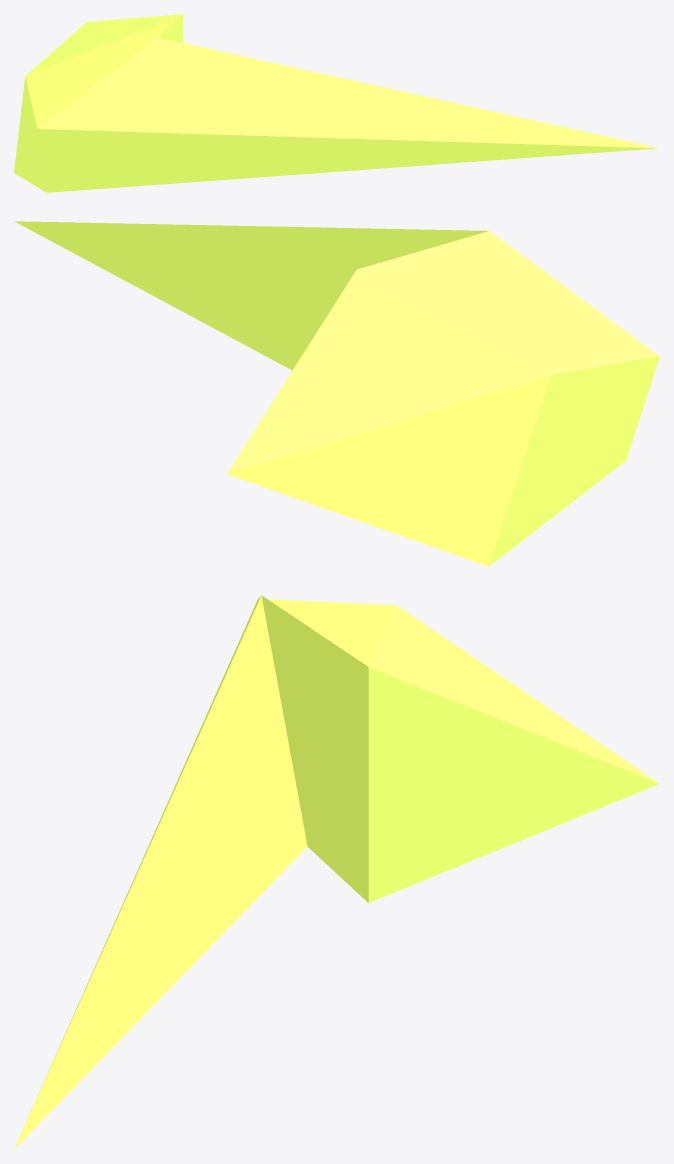
The model's file is H1_YPl_Blob4.gltf.
3 renders of one model, top to bottom at view 1: azimuth 30°, elevation 25°; view 2: azimuth 150°, elevation 25°; view 3: azimuth 270°, elevation 25°, orthographic. The views are drawn at different scales.
Parts seen in each view (by area): view 1: H1_YPl_Blob4; view 2: H1_YPl_Blob4; view 3: H1_YPl_Blob4.
Part boxes in pixels (x1,y1,x2,y2): H1_YPl_Blob4: [14, 14, 658, 192]; H1_YPl_Blob4: [14, 221, 659, 566]; H1_YPl_Blob4: [14, 595, 659, 1149].
Bounding box in the file's own units: 1.22 × 0.3659 × 0.816.
